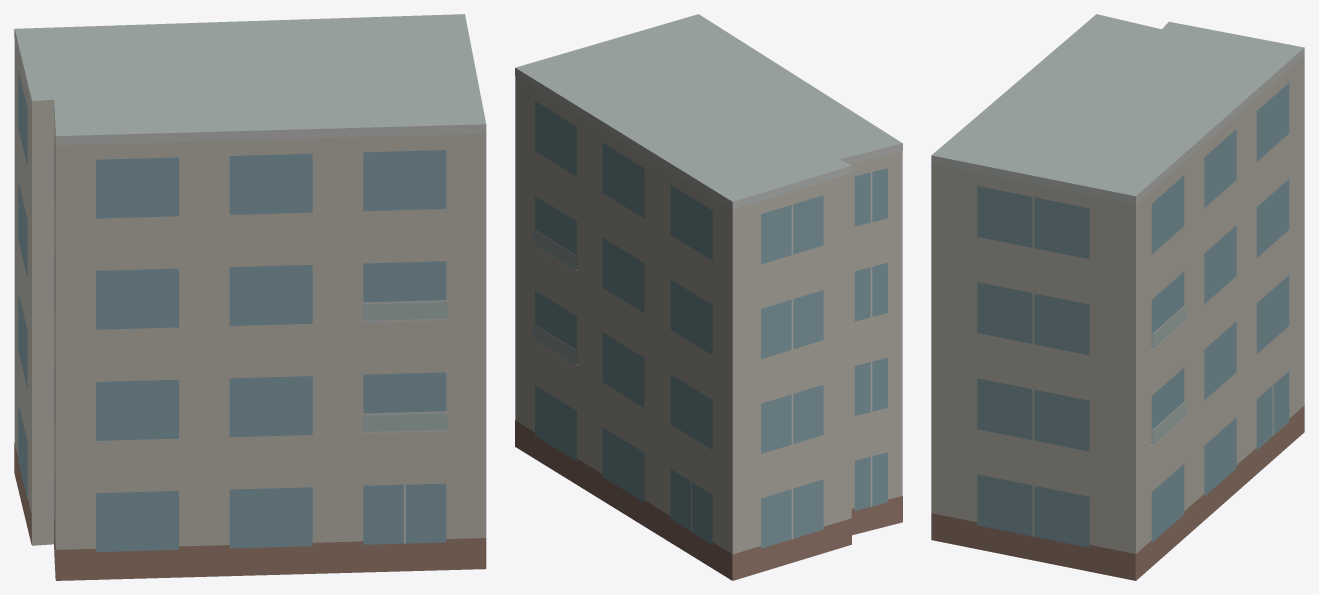
The model's file is survey-upis-32733924.glb.
3 renders of one model, left to right at view 1: azimuth 30°, elevation 25°; view 2: azimuth 150°, elevation 25°; view 3: azimuth 270°, elevation 25°, orthographic. The views are drawn at different scales.
Parts seen in each view (by area): view 1: survey-upis-32733924.tmp; view 2: survey-upis-32733924.tmp; view 3: survey-upis-32733924.tmp.
Boxes of the visible parts, <box> form: survey-upis-32733924.tmp: <box>14,14,486,580</box>; survey-upis-32733924.tmp: <box>515,14,902,580</box>; survey-upis-32733924.tmp: <box>931,14,1304,580</box>.
Size of the model in its own units: 11.9 by 11.7 by 10.3.
